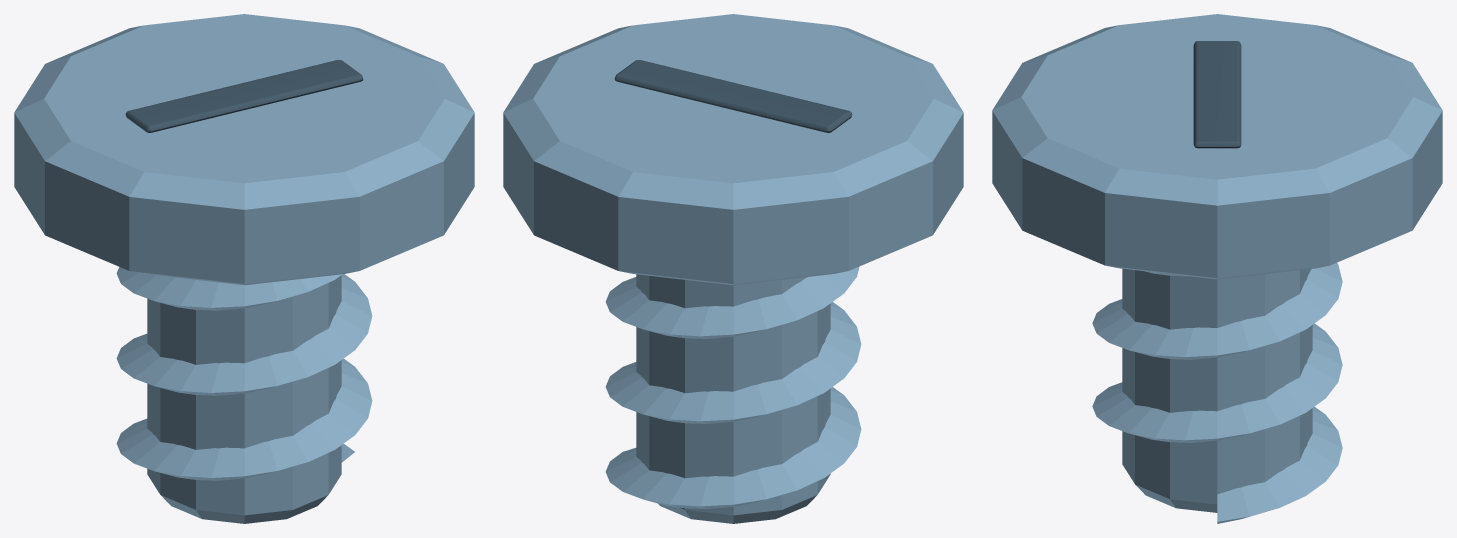
Rendered from Bolt_Screw_M6.fbx.
The picture shows the model from 3 angles, left to right: view 1: azimuth 30°, elevation 25°; view 2: azimuth 150°, elevation 25°; view 3: azimuth 270°, elevation 25°; orthographic projection. The views are drawn at different scales.
Parts seen in each view (by area): view 1: Screw_head, Screw_shaft, Screw_helical_thread, Screw_slot; view 2: Screw_head, Screw_helical_thread, Screw_shaft, Screw_slot; view 3: Screw_head, Screw_shaft, Screw_helical_thread, Screw_slot.
Boxes of the visible parts, box(x1,y1,x2,y2) form: Screw_head: box(14, 14, 474, 285); Screw_shaft: box(147, 275, 341, 523); Screw_helical_thread: box(116, 267, 372, 480); Screw_slot: box(125, 60, 363, 132); Screw_head: box(503, 14, 963, 285); Screw_helical_thread: box(605, 266, 861, 508); Screw_shaft: box(636, 274, 830, 523); Screw_slot: box(614, 60, 852, 132); Screw_head: box(992, 14, 1442, 279); Screw_shaft: box(1122, 268, 1312, 512); Screw_helical_thread: box(1092, 263, 1342, 523); Screw_slot: box(1193, 41, 1241, 148).
Bounding box in the file's own units: 90 × 86.8 × 90.
